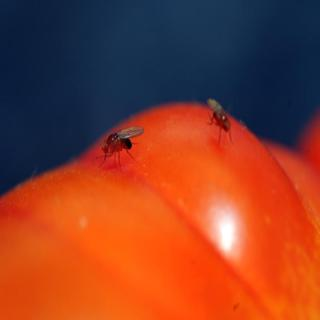tomato: (0, 97, 320, 319)
